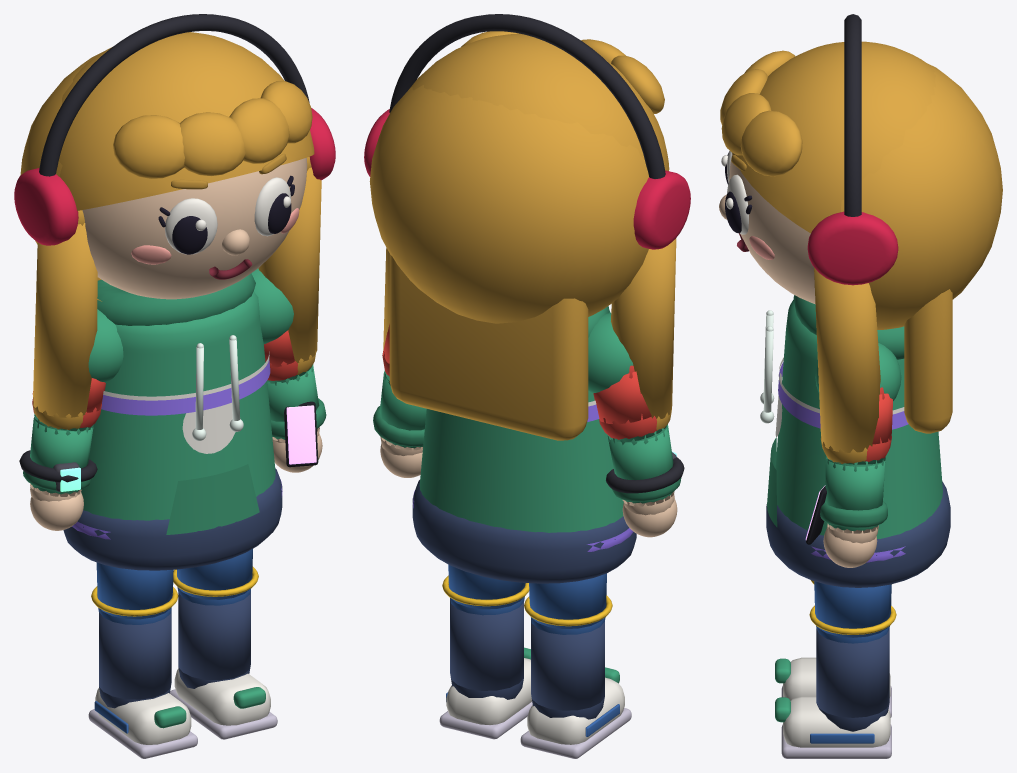
Rendered from ch_hero_f_2.fbx.
3 renders of one model, left to right at view 1: azimuth 30°, elevation 25°; view 2: azimuth 150°, elevation 25°; view 3: azimuth 270°, elevation 25°, orthographic.
Parts seen in each view (by area): view 1: ch_hero_f_2__base, ch_hero_f_2__top_default, ch_hero_f_2__pants_default, ch_hero_f_2__acc_headphones, ch_hero_f_2__shoes_default, ch_hero_f_2__pants_jeans, ch_hero_f_2__top_tshirt, ch_hero_f_2__top_hoodie, ch_hero_f_2__acc_smartphone, ch_hero_f_2__acc_watch; view 2: ch_hero_f_2__base, ch_hero_f_2__top_default, ch_hero_f_2__pants_default, ch_hero_f_2__acc_headphones, ch_hero_f_2__shoes_default, ch_hero_f_2__pants_jeans, ch_hero_f_2__top_tshirt, ch_hero_f_2__acc_watch, ch_hero_f_2__top_hoodie; view 3: ch_hero_f_2__base, ch_hero_f_2__top_default, ch_hero_f_2__pants_default, ch_hero_f_2__acc_headphones, ch_hero_f_2__shoes_default, ch_hero_f_2__pants_jeans, ch_hero_f_2__top_tshirt, ch_hero_f_2__top_hoodie, ch_hero_f_2__shoes_sneakers, ch_hero_f_2__acc_smartphone.
Boxes of the visible parts, <box> form: ch_hero_f_2__base: <box>20,32,322,530</box>; ch_hero_f_2__top_default: <box>23,268,326,534</box>; ch_hero_f_2__pants_default: <box>63,468,282,708</box>; ch_hero_f_2__acc_headphones: <box>14,14,335,245</box>; ch_hero_f_2__shoes_default: <box>88,668,277,758</box>; ch_hero_f_2__pants_jeans: <box>91,549,258,624</box>; ch_hero_f_2__top_tshirt: <box>30,330,319,501</box>; ch_hero_f_2__top_hoodie: <box>72,351,282,539</box>; ch_hero_f_2__acc_smartphone: <box>284,401,318,467</box>; ch_hero_f_2__acc_watch: <box>19,450,97,491</box>; ch_hero_f_2__base: <box>369,31,677,537</box>; ch_hero_f_2__top_default: <box>373,306,681,532</box>; ch_hero_f_2__pants_default: <box>412,480,636,719</box>; ch_hero_f_2__acc_headphones: <box>364,14,690,249</box>; ch_hero_f_2__shoes_default: <box>439,647,631,758</box>; ch_hero_f_2__pants_jeans: <box>442,564,612,634</box>; ch_hero_f_2__top_tshirt: <box>380,324,674,515</box>; ch_hero_f_2__acc_watch: <box>606,451,684,493</box>; ch_hero_f_2__top_hoodie: <box>412,400,633,551</box>; ch_hero_f_2__base: <box>719,41,1002,567</box>; ch_hero_f_2__top_default: <box>760,295,942,538</box>; ch_hero_f_2__pants_default: <box>766,481,950,731</box>; ch_hero_f_2__acc_headphones: <box>807,14,898,285</box>; ch_hero_f_2__shoes_default: <box>775,657,891,758</box>; ch_hero_f_2__pants_jeans: <box>809,580,896,643</box>; ch_hero_f_2__top_tshirt: <box>775,373,892,543</box>; ch_hero_f_2__top_hoodie: <box>778,357,908,562</box>; ch_hero_f_2__shoes_sneakers: <box>810,733,874,743</box>; ch_hero_f_2__acc_smartphone: <box>805,485,826,544</box>.
Bounding box in the file's own units: 0.6345 × 1.43 × 0.5272.
